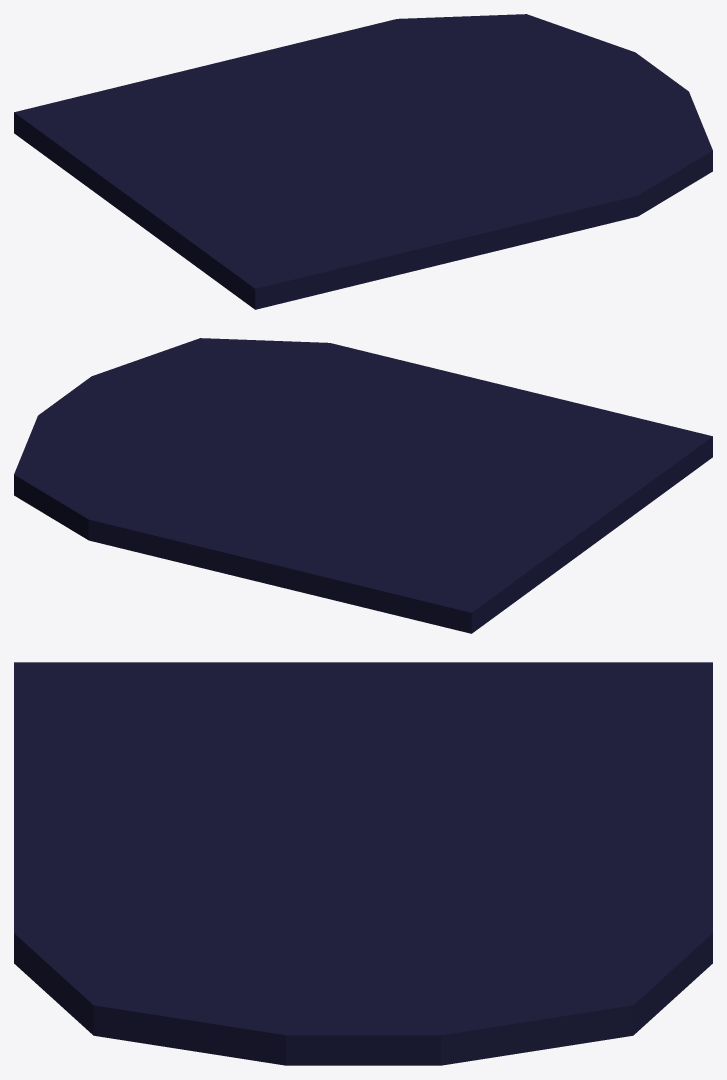
Rendered from toilet_1.glb.
3 renders of one model, top to bottom at view 1: azimuth 30°, elevation 25°; view 2: azimuth 150°, elevation 25°; view 3: azimuth 270°, elevation 25°, orthographic. The views are drawn at different scales.
Visible parts, largest first — view 1: Kibel_1; view 2: Kibel_1; view 3: Kibel_1.
Boxes of the visible parts, x1=… form: Kibel_1: x1=14, y1=14, x2=712, y2=309; Kibel_1: x1=14, y1=338, x2=712, y2=633; Kibel_1: x1=14, y1=662, x2=712, y2=1065.
Size of the model in its own units: 0.5292 by 0.0202 by 0.4193.
